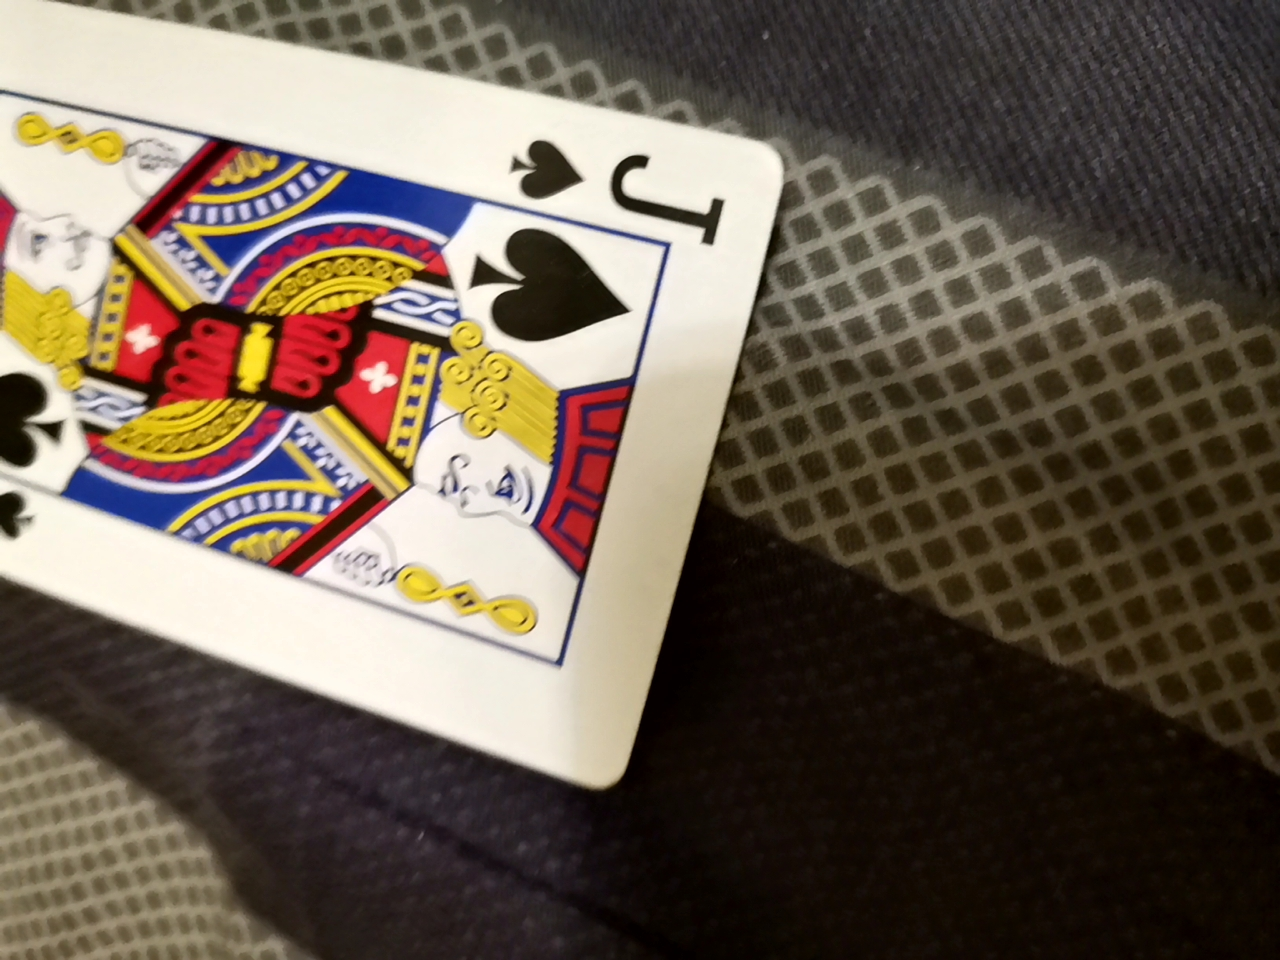ht j: (0, 12, 825, 794)
